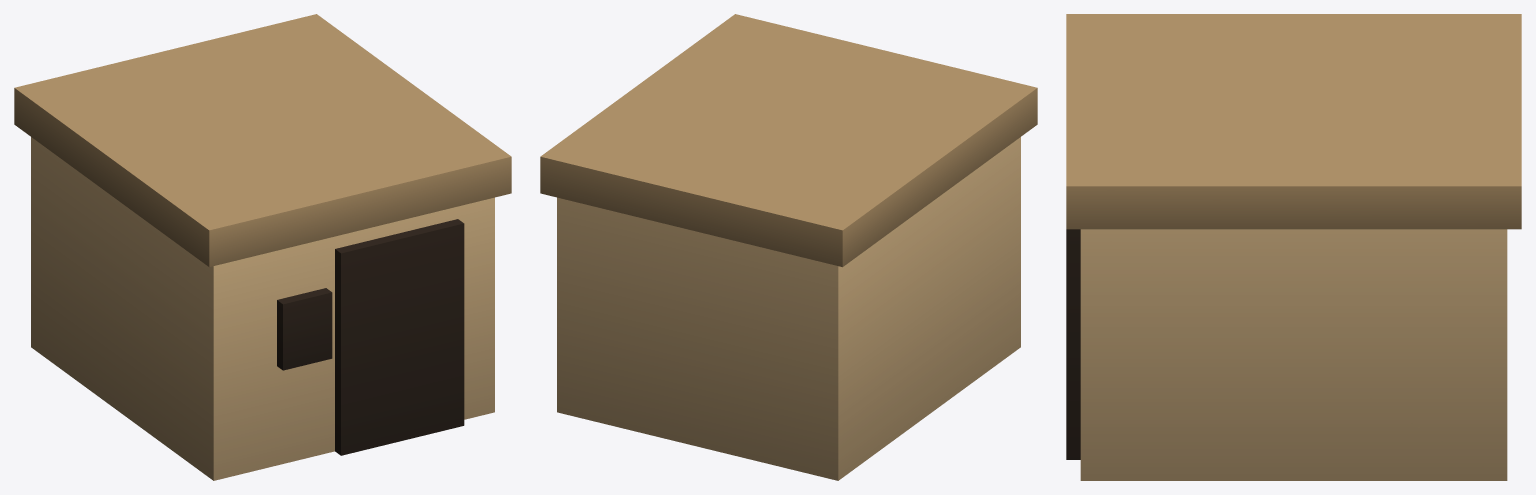
The model's file is house_MA_1a.glb.
The picture shows the model from 3 angles, left to right: view 1: azimuth 30°, elevation 25°; view 2: azimuth 150°, elevation 25°; view 3: azimuth 270°, elevation 25°; orthographic projection. The views are drawn at different scales.
Parts seen in each view (by area): view 1: Body; view 2: Body; view 3: Body.
Boxes of the visible parts, left/top/right/bottom form: Body: left=14, top=14, right=511, bottom=480; Body: left=540, top=14, right=1037, bottom=480; Body: left=1066, top=14, right=1521, bottom=480.
Bounding box in the file's own units: 0.86 × 0.7 × 0.96.
Materials: 1 (1 with a texture image).
